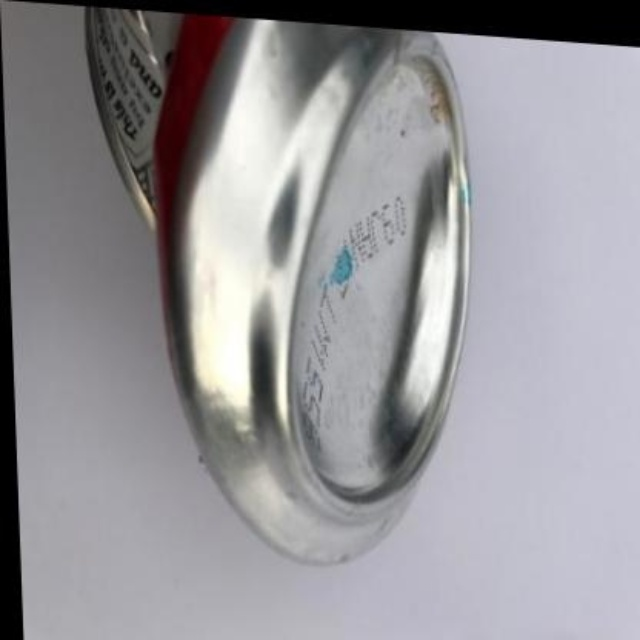trash: (86, 9, 468, 562)
